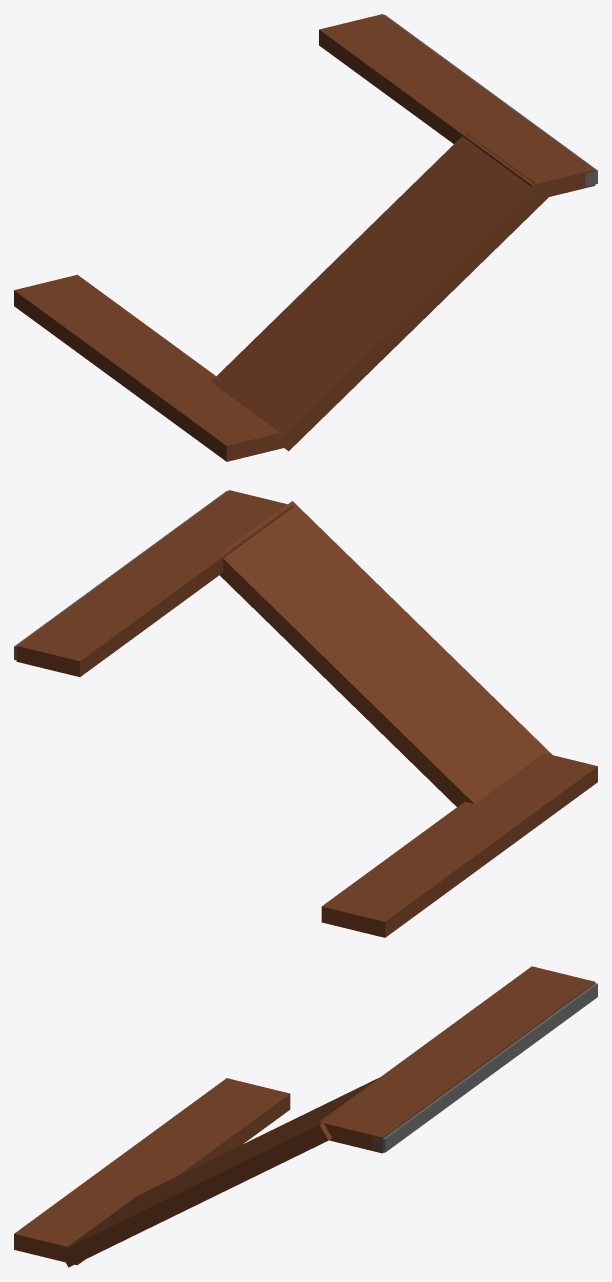
3 renders of one model, top to bottom at view 1: azimuth 30°, elevation 25°; view 2: azimuth 150°, elevation 25°; view 3: azimuth 330°, elevation 25°, orthographic.
Parts seen in each view (by area): view 1: Cube.041, Cube.043, Cube.037; view 2: Cube.041, Cube.043, Cube.037; view 3: Cube.043, Cube.037, Cube.041, Cube.040.
Part boxes in pixels (bbox=[...]): Cube.041: bbox=[211, 132, 548, 451]; Cube.043: bbox=[14, 274, 283, 461]; Cube.037: bbox=[319, 14, 595, 196]; Cube.041: bbox=[218, 501, 552, 806]; Cube.043: bbox=[321, 753, 597, 937]; Cube.037: bbox=[16, 490, 292, 676]; Cube.043: bbox=[14, 1078, 290, 1265]; Cube.037: bbox=[319, 966, 595, 1153]; Cube.041: bbox=[59, 1071, 392, 1267]; Cube.040: bbox=[372, 983, 597, 1152].
Bounding box in the file's own units: 292 × 153 × 295.
